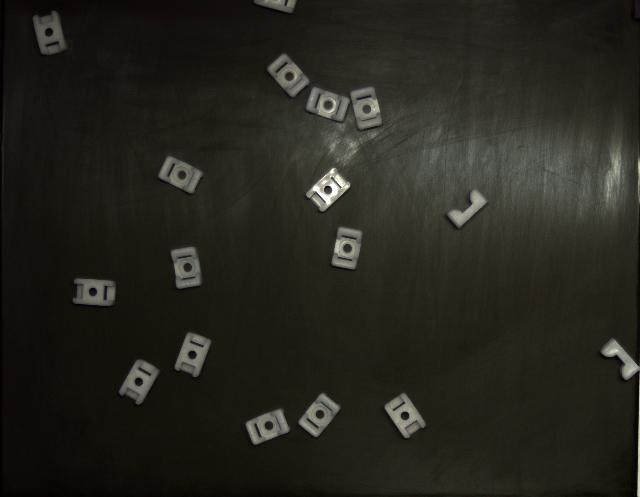first_side: (268, 54, 310, 98), (299, 394, 340, 438), (159, 156, 202, 194), (245, 410, 289, 445), (306, 88, 350, 122), (350, 88, 382, 130), (331, 228, 362, 270), (171, 248, 202, 289)
second_side: (306, 169, 350, 212), (119, 360, 160, 405), (385, 394, 425, 439), (175, 332, 211, 378), (32, 11, 68, 55), (72, 279, 116, 306)
third_side: (600, 339, 640, 380), (448, 190, 488, 229)
